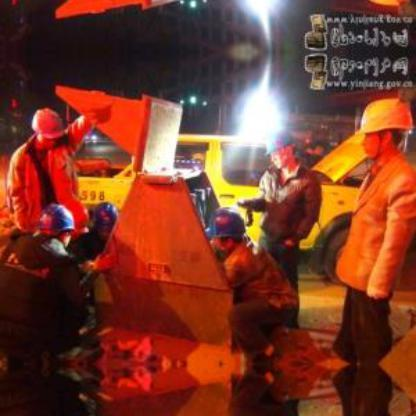Helmet: (354, 92, 413, 164), (42, 204, 80, 249), (30, 107, 64, 149), (263, 129, 297, 170), (211, 208, 244, 249), (92, 200, 121, 238)
